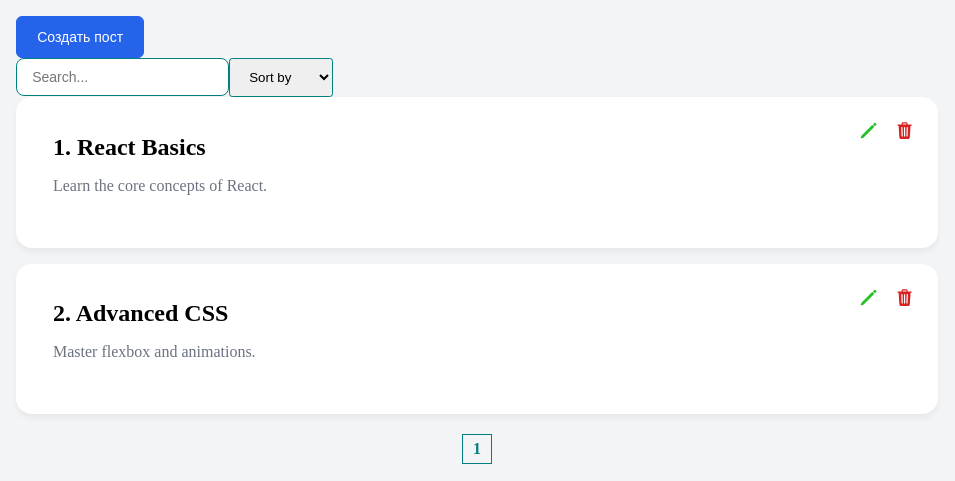
Posts Component › deletes a post from the list
Expected: the heading "1. React Basics" is shown, [53,134,206,160]
Click the 1st icon with class "icon-delete": (904, 131) [895,121,914,140]
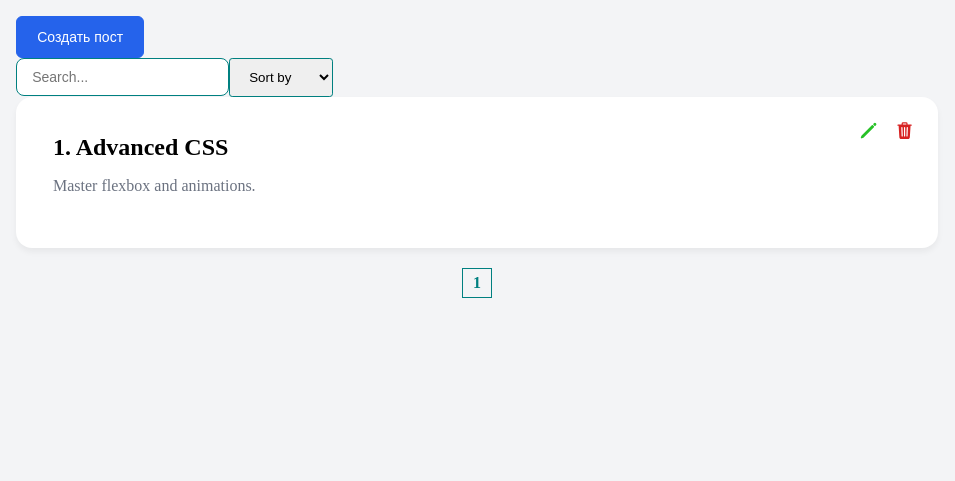
Expected: the heading "1. Advanced CSS" is shown, [53,134,228,160]
Expected: the heading "React Basics" is gone
